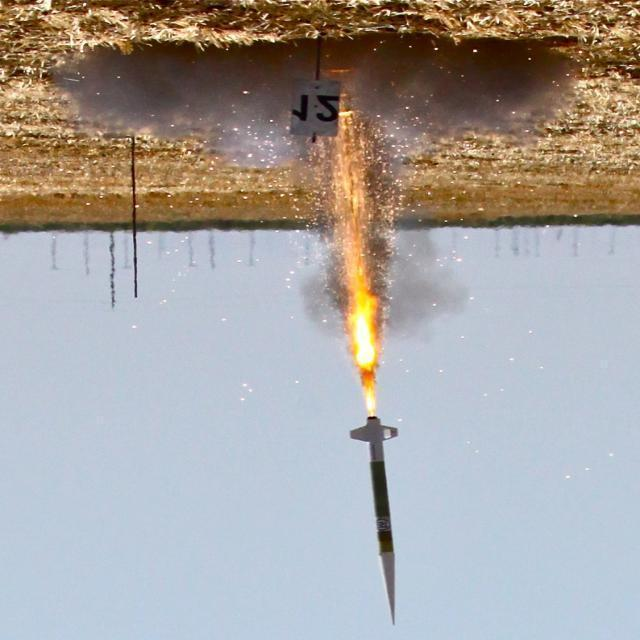missile: (352, 418, 406, 624)
